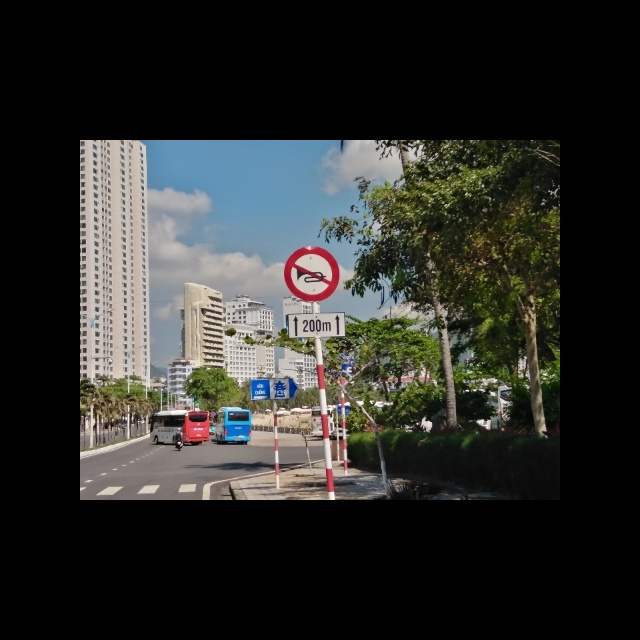Cấm bấm còi: (283, 245, 340, 300)
